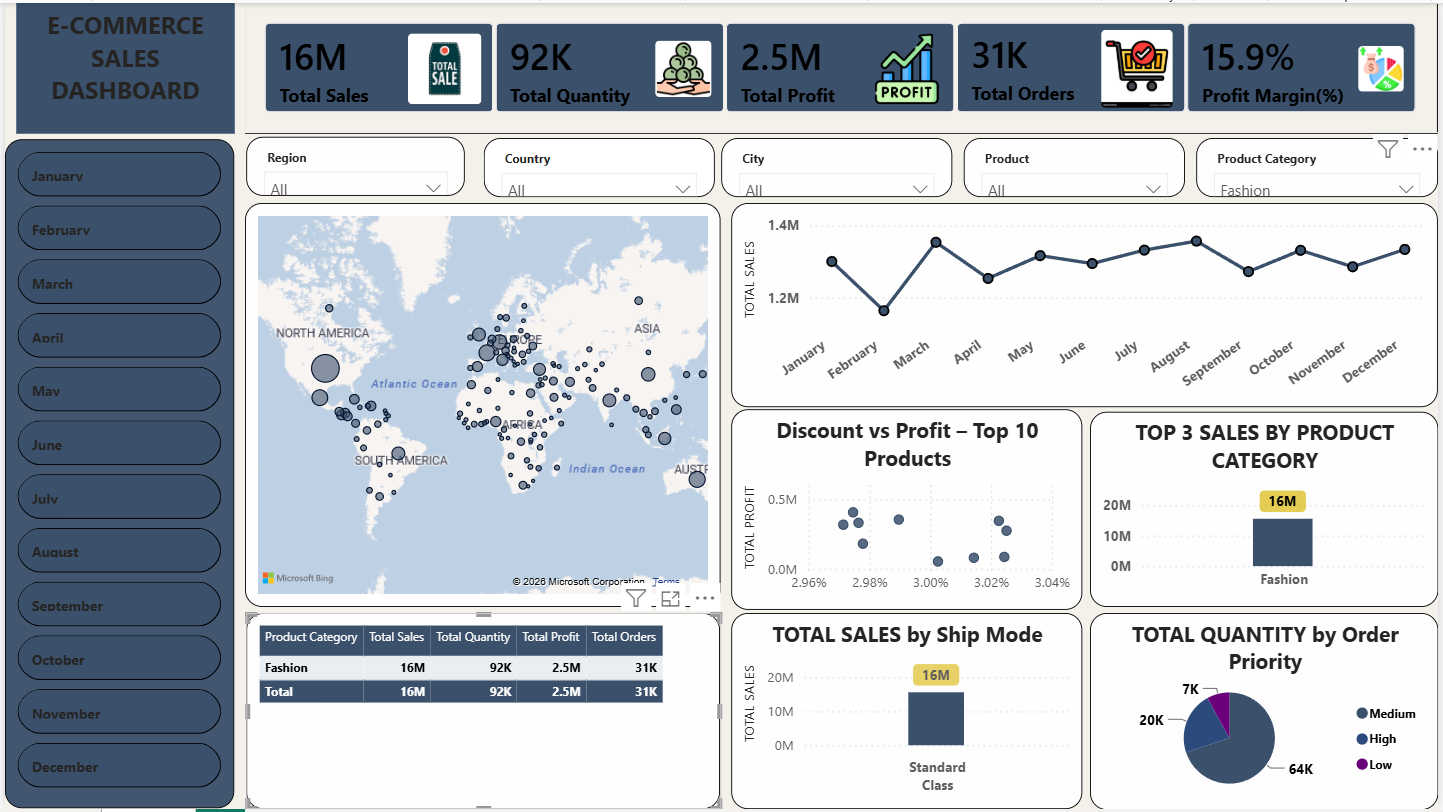

The page's visual inventory and layout, read from the dashboard file:
{"tool":"powerbi","page":{"name":"Page 1","canvas":[1280,720],"ordinal":0},"visuals":[{"type":"textbox","box":[9.6,0,194.9,116.6],"z":0},{"type":"advancedSlicerVisual","fields":{"Values":["E-COMMERCE DATA.Order Date.Variation.Date Hierarchy.Month"]},"box":[0,122.1,204.7,597.7],"z":1000},{"type":"slicer","fields":{"Values":["E-COMMERCE DATA.Region"]},"box":[215.6,120,195.5,53],"z":2000},{"type":"slicer","fields":{"Values":["E-COMMERCE DATA.Country"]},"box":[427.5,120.1,206.2,52.9],"z":3000},{"type":"slicer","fields":{"Values":["E-COMMERCE DATA.City"]},"box":[639.5,120.1,206.1,53],"z":4000},{"type":"slicer","fields":{"Values":["E-COMMERCE DATA.Product"]},"box":[856.2,120.1,197.8,52.9],"z":5000},{"type":"columnChart","fields":{"Category":["E-COMMERCE DATA.Ship Mode"],"Y":["E-COMMERCE DATA.TOTAL SALES"]},"box":[649.2,544.7,313.5,175.5],"z":6000},{"type":"pieChart","fields":{"Category":["E-COMMERCE DATA.Order Priority"],"Y":["E-COMMERCE DATA.TOTAL QUANTITY"]},"box":[968.8,544.8,311.5,175.6],"z":7000},{"type":"lineChart","fields":{"Category":["E-COMMERCE DATA.Order Date.Variation.Date Hierarchy.Month","E-COMMERCE DATA.Order Date.Variation.Date Hierarchy.Day"],"Y":["E-COMMERCE DATA.TOTAL SALES"]},"box":[649.2,178.3,631.1,182.5],"z":8000},{"type":"tableEx","fields":{"Values":["E-COMMERCE DATA.Product Category","E-COMMERCE DATA.TOTAL SALES","E-COMMERCE DATA.TOTAL QUANTITY","E-COMMERCE DATA.TOTAL PROFIT","E-COMMERCE DATA.TOTAL ORDERS"]},"box":[215.9,544.7,423.5,175.5],"z":9000},{"type":"clusteredColumnChart","title":"TOP 3 SALES BY PRODUCT CATEGORY ","fields":{"Category":["E-COMMERCE DATA.Product Category"],"Y":["E-COMMERCE DATA.TOTAL SALES"]},"box":[969.3,365.1,310.9,174.3],"z":10000},{"type":"map","fields":{"Category":["E-COMMERCE DATA.Country"],"Size":["CountNonNull(E-COMMERCE DATA.City)"]},"box":[214.5,178.3,424.9,360.8],"z":12000},{"type":"slicer","fields":{"Values":["E-COMMERCE DATA.Product Category"]},"box":[1064.7,120.1,215.9,52.9],"z":13000},{"type":"scatterChart","title":"Discount vs Profit – Top 10 Products","fields":{"Category":["E-COMMERCE DATA.Product"],"X":["E-COMMERCE DATA.AVERAGE DISCOUNT"],"Y":["E-COMMERCE DATA.TOTAL PROFIT"]},"box":[649,362.8,313.3,179],"z":14000},{"type":"cardVisual","fields":{"Data":["E-COMMERCE DATA.TOTAL SALES","E-COMMERCE DATA.TOTAL QUANTITY","E-COMMERCE DATA.TOTAL PROFIT","E-COMMERCE DATA.TOTAL ORDERS","E-COMMERCE DATA.PROFIT MARGIN %"]},"box":[214.4,0,1065.9,116.6],"z":15000}]}

Visuals, with their boxes in screenshot pixels (x1, y1, x2, y2), scaled from the page's 1280x720 canvas onto the 1443x812 screenshot:
textbox: pyautogui.locateOnScreen(11, 0, 231, 131)
advancedSlicerVisual - E-COMMERCE DATA.Order Date.Variation.Date Hierarchy.Month: pyautogui.locateOnScreen(0, 138, 231, 811)
slicer - E-COMMERCE DATA.Region: pyautogui.locateOnScreen(243, 135, 463, 195)
slicer - E-COMMERCE DATA.Country: pyautogui.locateOnScreen(482, 135, 714, 195)
slicer - E-COMMERCE DATA.City: pyautogui.locateOnScreen(721, 135, 953, 195)
slicer - E-COMMERCE DATA.Product: pyautogui.locateOnScreen(965, 135, 1188, 195)
columnChart - E-COMMERCE DATA.Ship Mode x E-COMMERCE DATA.TOTAL SALES: pyautogui.locateOnScreen(732, 614, 1085, 811)
pieChart - E-COMMERCE DATA.Order Priority x E-COMMERCE DATA.TOTAL QUANTITY: pyautogui.locateOnScreen(1092, 614, 1442, 811)
lineChart - E-COMMERCE DATA.Order Date.Variation.Date Hierarchy.Month x E-COMMERCE DATA.Order Date.Variation.Date Hierarchy.Day: pyautogui.locateOnScreen(732, 201, 1442, 407)
tableEx - E-COMMERCE DATA.Product Category x E-COMMERCE DATA.TOTAL SALES: pyautogui.locateOnScreen(243, 614, 721, 811)
"TOP 3 SALES BY PRODUCT CATEGORY " clusteredColumnChart: pyautogui.locateOnScreen(1093, 412, 1442, 608)
map - E-COMMERCE DATA.Country x CountNonNull(E-COMMERCE DATA.City): pyautogui.locateOnScreen(242, 201, 721, 608)
slicer - E-COMMERCE DATA.Product Category: pyautogui.locateOnScreen(1200, 135, 1442, 195)
"Discount vs Profit – Top 10 Products" scatterChart: pyautogui.locateOnScreen(732, 409, 1085, 611)
cardVisual - E-COMMERCE DATA.TOTAL SALES x E-COMMERCE DATA.TOTAL QUANTITY: pyautogui.locateOnScreen(242, 0, 1442, 131)
